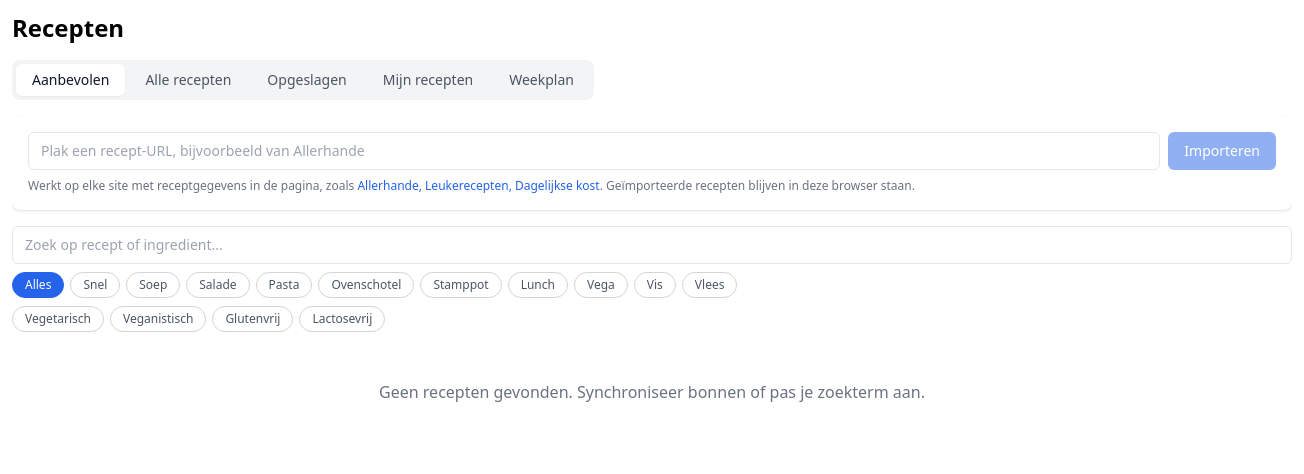
Test: pages/recipes.vue › my recipes tab › lists the user recipes
Click the button with class "tab" showing "Mijn recepten".
click(428, 80)  # box [367,64,489,96]
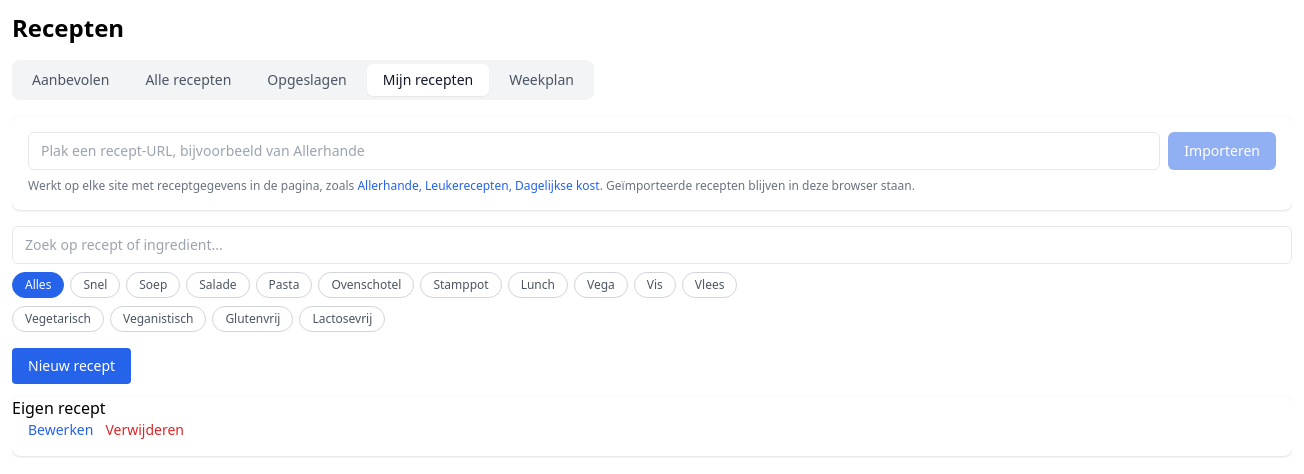
Result: the number of elements with class "user-recipe" is 1 at [12,396,1292,456]
